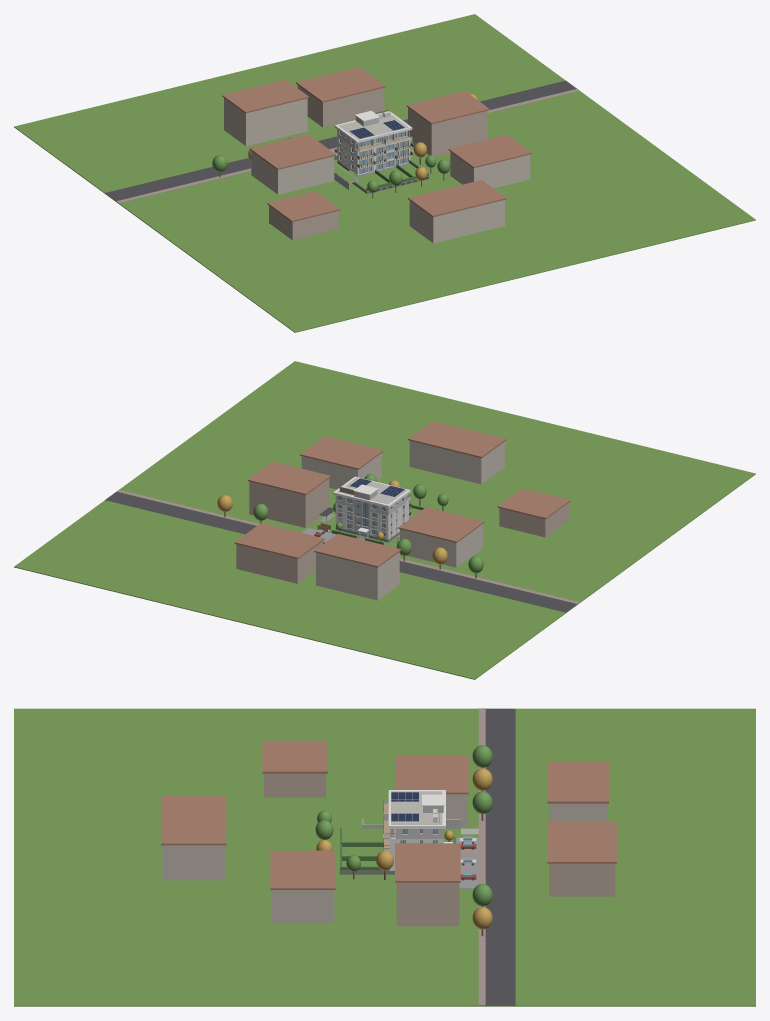
Rendered from edificio.glb.
3 renders of one model, top to bottom at view 1: azimuth 30°, elevation 25°; view 2: azimuth 150°, elevation 25°; view 3: azimuth 270°, elevation 25°, orthographic. The views are drawn at different scales.
Parts seen in each view (by area): view 1: terreno, vicino_4, strada, vicino_6, vicino_1, vicino_0, vicino_6_tetto, vicino_5, vicino_3, vicino_5_tetto, vicino_0_tetto, vicino_4_tetto (+7 smaller); view 2: terreno, strada, vicino_4, vicino_6, vicino_1, vicino_5, vicino_6_tetto, vicino_5_tetto, vicino_0_tetto, vicino_0, vicino_4_tetto, vicino_1_tetto (+6 smaller); view 3: terreno, strada, vicino_6_tetto, vicino_5_tetto, vicino_1, vicino_0_tetto, vicino_4_tetto, vicino_1_tetto, vicino_3_tetto, vicino_5, vicino_6, vicino_2_tetto (+10 smaller).
Boxes of the visible parts, x1,y1,x2,y2 form: terreno: (14, 14, 755, 332); vicino_4: (224, 98, 307, 146); strada: (105, 80, 576, 201); vicino_6: (409, 200, 504, 243); vicino_1: (408, 107, 487, 156); vicino_0: (251, 151, 334, 194); vicino_6_tetto: (408, 180, 506, 217); vicino_5: (297, 85, 384, 127); vicino_3: (450, 151, 530, 188); vicino_5_tetto: (296, 67, 385, 102); vicino_0_tetto: (250, 134, 335, 169); vicino_4_tetto: (222, 79, 308, 113); terreno: (14, 361, 755, 679); strada: (105, 492, 576, 612); vicino_4: (316, 552, 399, 600); vicino_6: (409, 441, 504, 484); vicino_1: (249, 478, 329, 527); vicino_5: (236, 541, 322, 583); vicino_6_tetto: (408, 421, 506, 458); vicino_5_tetto: (234, 523, 324, 558); vicino_0_tetto: (398, 507, 484, 542); vicino_0: (400, 524, 482, 567); vicino_4_tetto: (314, 534, 401, 567); vicino_1_tetto: (247, 461, 330, 495); terreno: (14, 708, 755, 1006); strada: (485, 708, 515, 1005); vicino_6_tetto: (161, 796, 226, 845); vicino_5_tetto: (547, 821, 616, 863); vicino_1: (396, 882, 459, 926); vicino_0_tetto: (395, 755, 468, 794); vicino_4_tetto: (547, 761, 608, 803); vicino_1_tetto: (395, 843, 460, 882); vicino_3_tetto: (270, 850, 335, 889); vicino_5: (549, 863, 615, 896); vicino_6: (162, 845, 224, 880); vicino_2_tetto: (262, 740, 327, 773).
Bounding box in the file's own units: 180 × 16.6 × 190.
